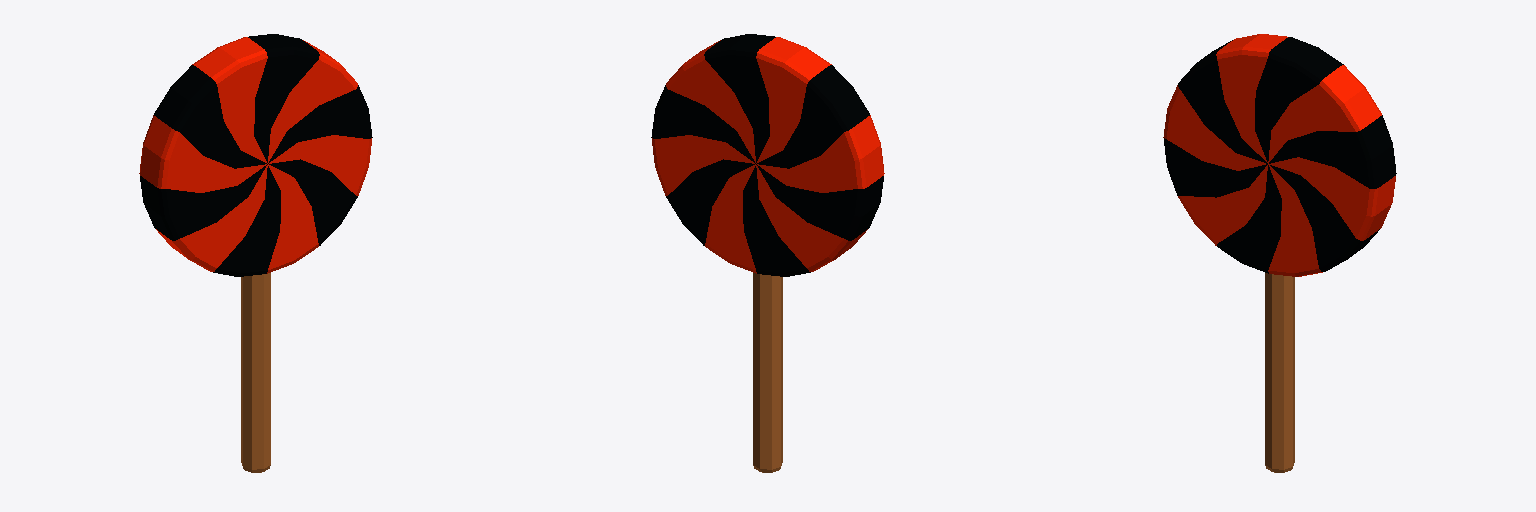
The model's file is lollipopB.obj.
3 renders of one model, left to right at view 1: azimuth 30°, elevation 25°; view 2: azimuth 150°, elevation 25°; view 3: azimuth 330°, elevation 25°, orthographic.
Parts seen in each view (by area): view 1: lollipopB_Cylinder.021; view 2: lollipopB_Cylinder.021; view 3: lollipopB_Cylinder.021.
Boxes of the visible parts, x1=… form: lollipopB_Cylinder.021: x1=139, y1=34, x2=372, y2=472; lollipopB_Cylinder.021: x1=651, y1=34, x2=884, y2=472; lollipopB_Cylinder.021: x1=1163, y1=34, x2=1396, y2=472.
Bounding box in the file's own units: 0.6861 × 1.3 × 0.1308.